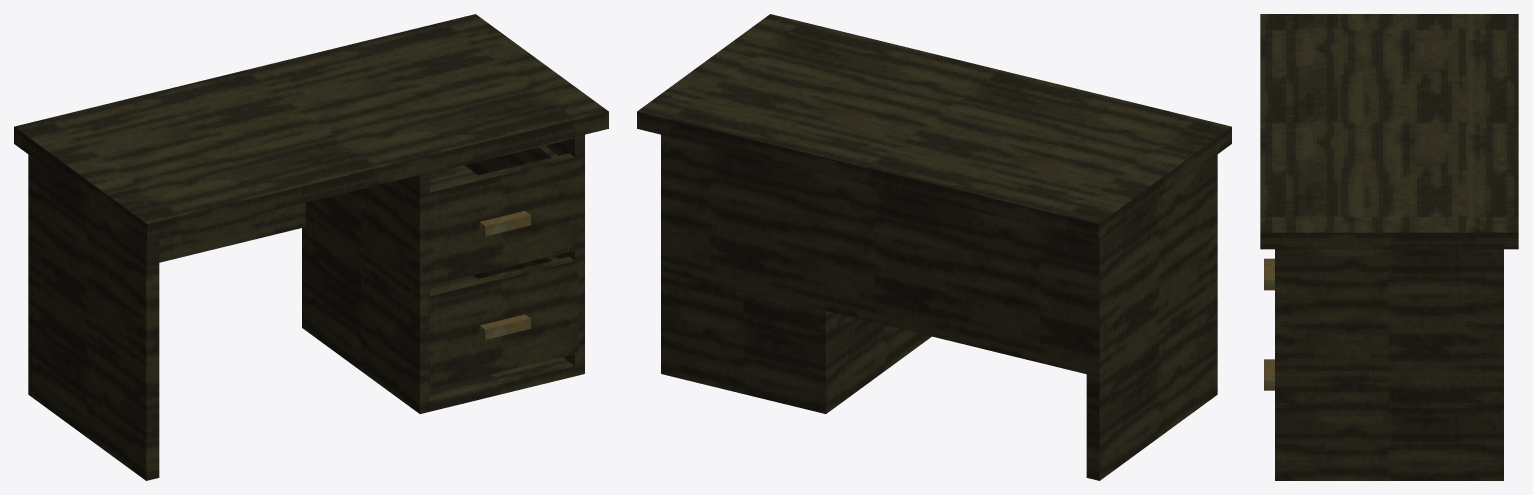
File: Desk.fbx
3 renders of one model, left to right at view 1: azimuth 30°, elevation 25°; view 2: azimuth 150°, elevation 25°; view 3: azimuth 270°, elevation 25°, orthographic. The views are drawn at different scales.
Visible parts, largest first — view 1: Desk_Top, Desk_Pedestal_Body, Desk_Drawer1_Front, Desk_Drawer2_Front, Desk_Drawer2_Box, Desk_Drawer1_Handle, Desk_Drawer2_Handle, Desk_Drawer1_Box; view 2: Desk_Top, Desk_Pedestal_Body; view 3: Desk_Top, Desk_Pedestal_Body, Desk_Drawer2_Handle, Desk_Drawer1_Handle.
Part boxes in pixels (x1=…): Desk_Top: x1=14, y1=14, x2=608, y2=480; Desk_Pedestal_Body: x1=302, y1=134, x2=584, y2=413; Desk_Drawer1_Front: x1=426, y1=256, x2=578, y2=389; Desk_Drawer2_Front: x1=426, y1=153, x2=578, y2=286; Desk_Drawer2_Box: x1=430, y1=145, x2=558, y2=186; Desk_Drawer1_Handle: x1=479, y1=314, x2=530, y2=339; Desk_Drawer2_Handle: x1=479, y1=211, x2=530, y2=236; Desk_Drawer1_Box: x1=430, y1=255, x2=558, y2=290; Desk_Top: x1=637, y1=14, x2=1231, y2=480; Desk_Pedestal_Body: x1=661, y1=141, x2=931, y2=413; Desk_Top: x1=1260, y1=14, x2=1518, y2=380; Desk_Pedestal_Body: x1=1275, y1=249, x2=1503, y2=480; Desk_Drawer2_Handle: x1=1264, y1=258, x2=1274, y2=290; Desk_Drawer1_Handle: x1=1264, y1=359, x2=1274, y2=390.
Bounding box in the file's own units: 1.4 × 0.765 × 0.7.
Materials: 2 (2 with a texture image).
